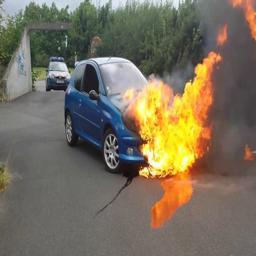fire: (125, 26, 227, 182), (228, 0, 256, 41)
